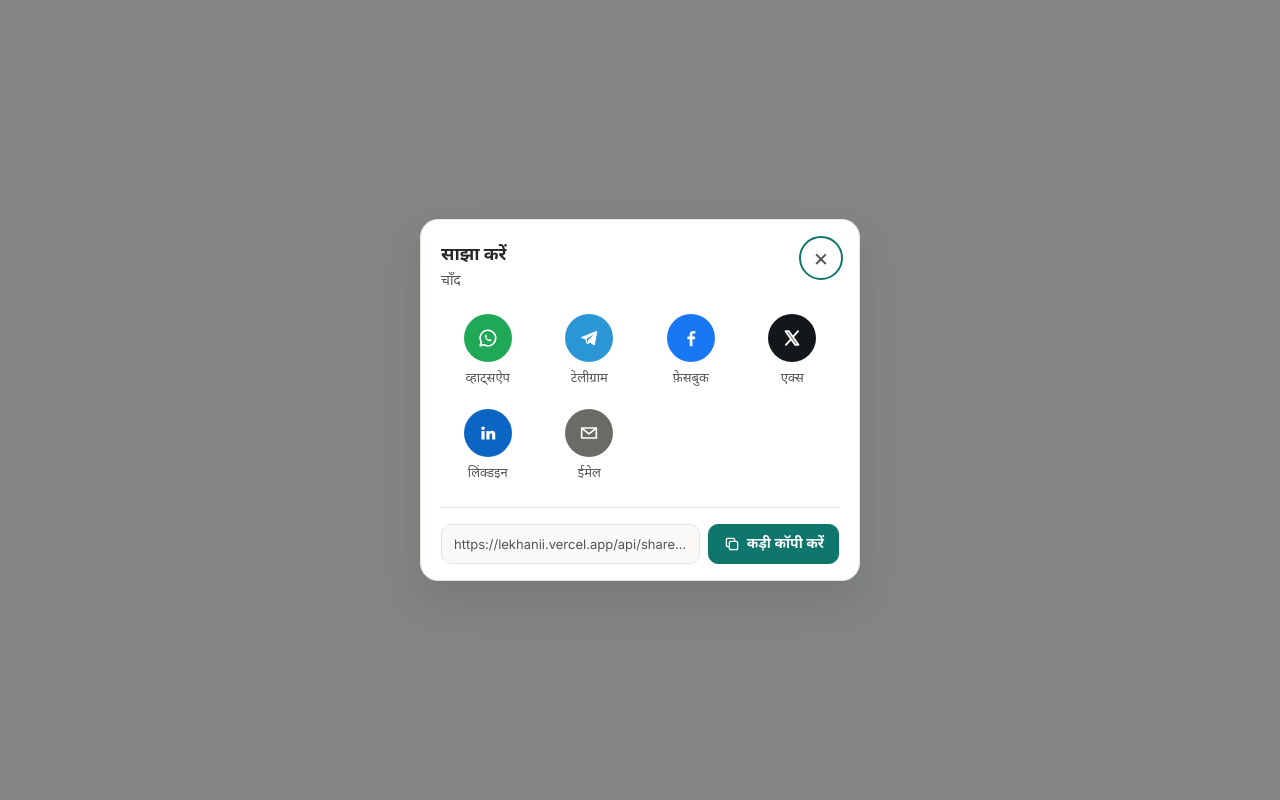
it: ShareSheet › copy puts the address on the clipboard and says so
The image size is (1280, 800).
What coordinates should you click on to do the following:
click the button with class "share-copy"
I would click on:
 (773, 544)
Its box is [708,524,839,564].
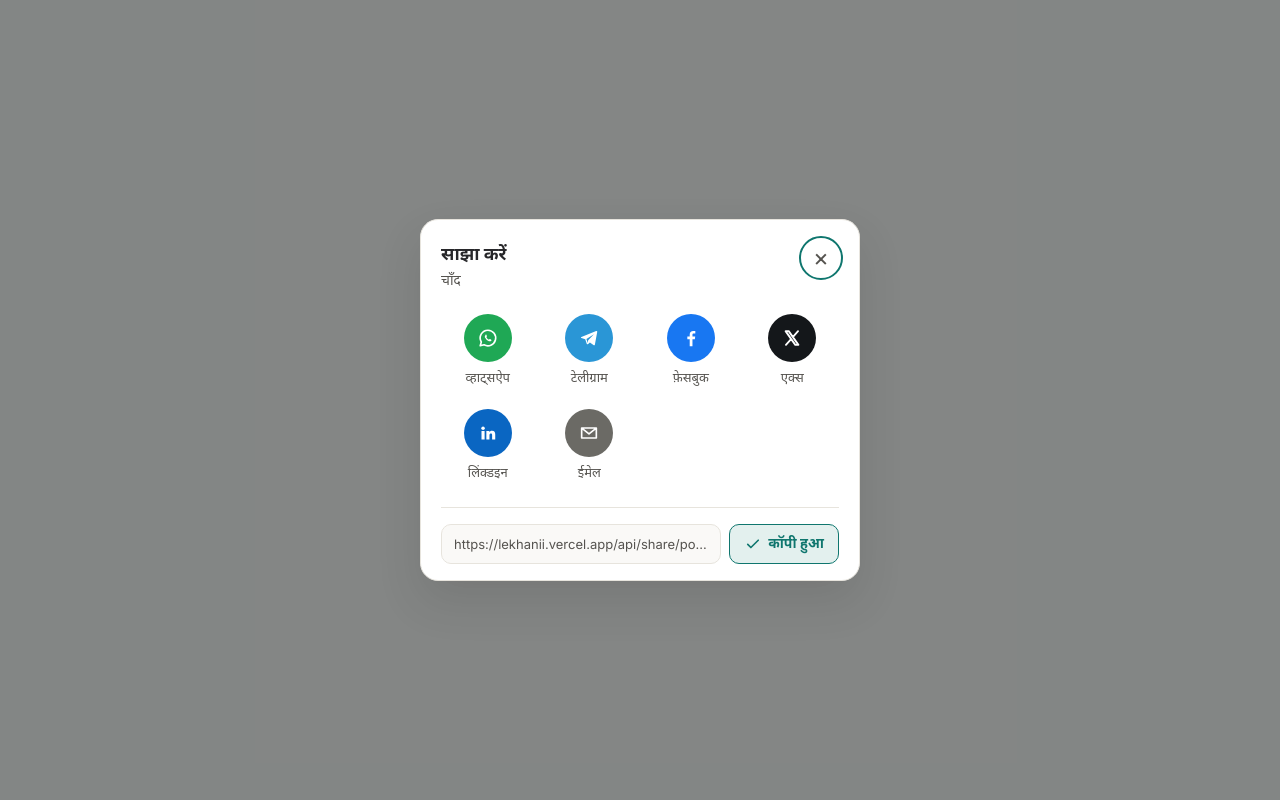
Now the button with class "share-copy" reads "कॉपी हुआ", box [729,524,839,564]
